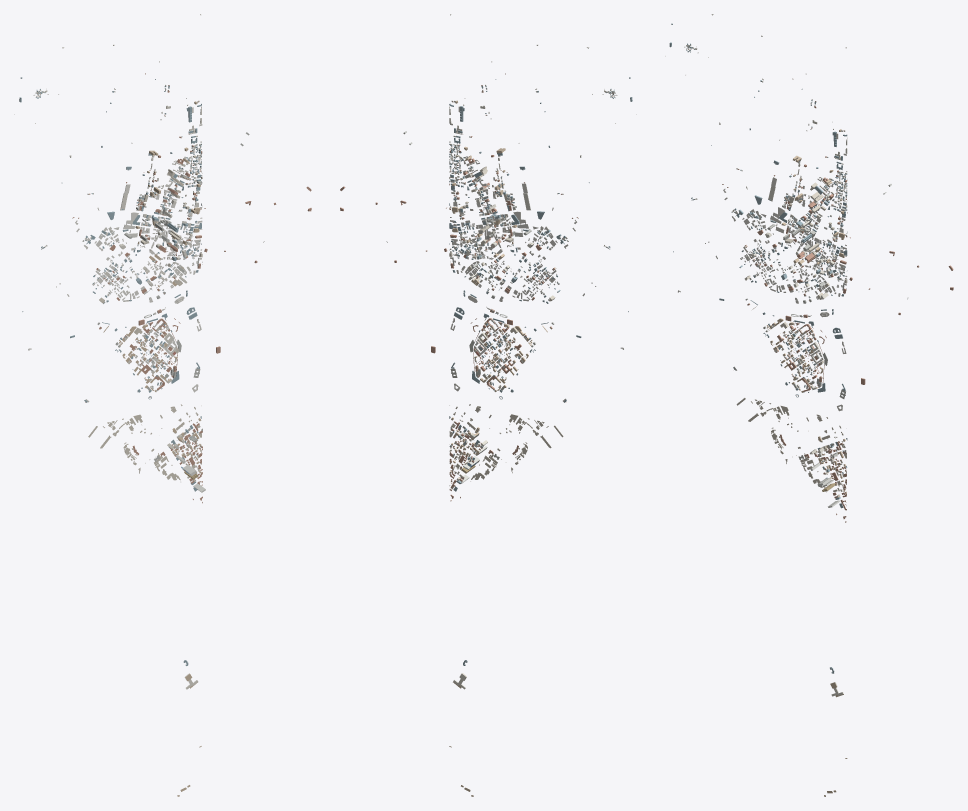
The model's file is ermita-buildings-part-02-of-06.glb.
3 renders of one model, left to right at view 1: azimuth 30°, elevation 25°; view 2: azimuth 150°, elevation 25°; view 3: azimuth 330°, elevation 25°, orthographic. The views are drawn at different scales.
Size of the model in its own units: 3938 by 9860 by 247.
